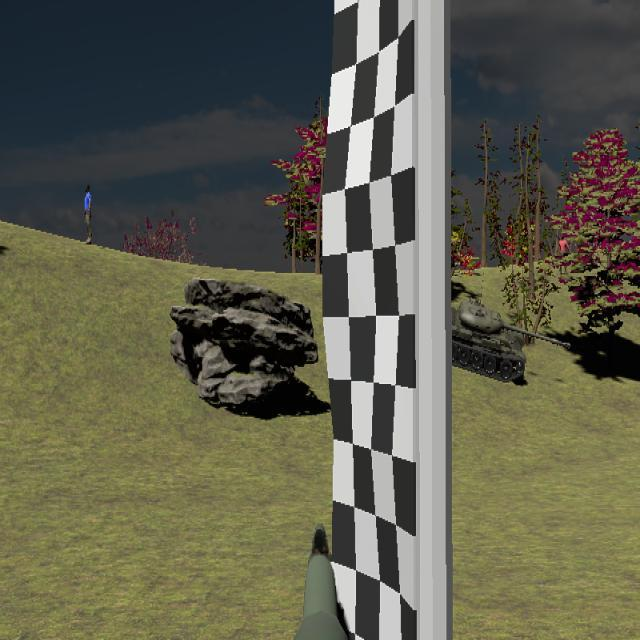Tank: (452, 300, 572, 383)
